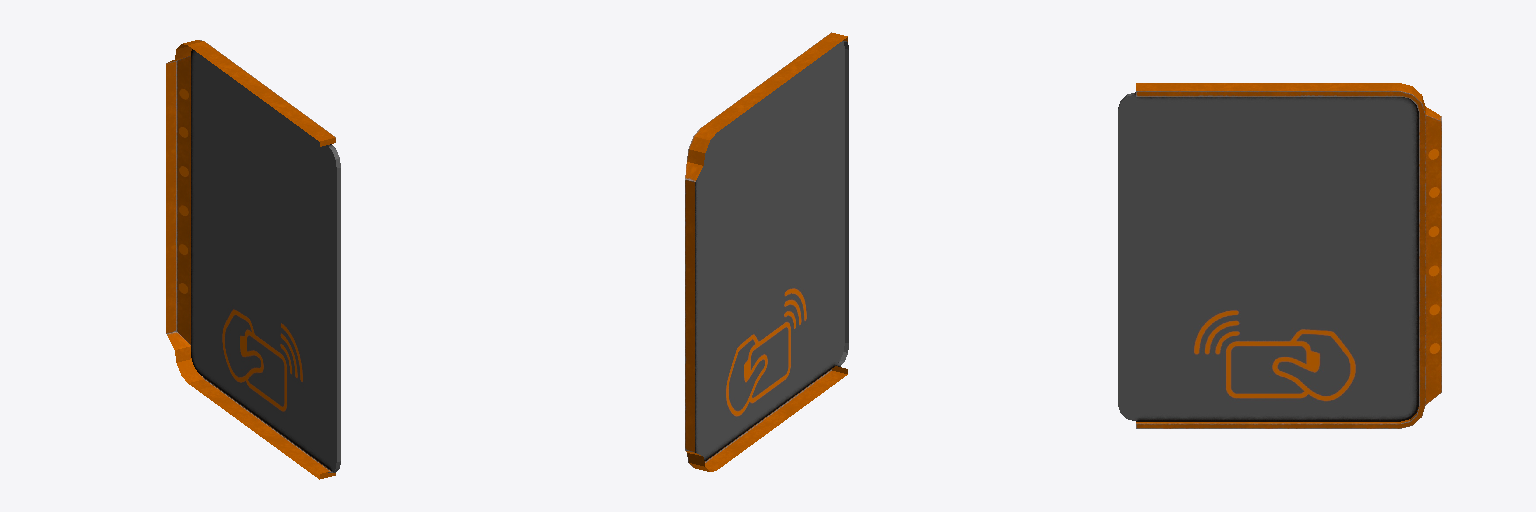
3 views of the same model, side by side, from view 1: azimuth 30°, elevation 25°; view 2: azimuth 150°, elevation 25°; view 3: azimuth 270°, elevation 25° (orthographic).
Parts seen in each view (by area): view 1: g CardMachine polySurface53 Cell_Room Cell; view 2: g CardMachine polySurface53 Cell_Room Cell; view 3: g CardMachine polySurface53 Cell_Room Cell.
Boxes of the visible parts, x1=… form: g CardMachine polySurface53 Cell_Room Cell: x1=166, y1=40, x2=340, y2=479; g CardMachine polySurface53 Cell_Room Cell: x1=685, y1=32, x2=848, y2=471; g CardMachine polySurface53 Cell_Room Cell: x1=1118, y1=83, x2=1441, y2=428.
Bounding box in the file's own units: 0.1051 × 2 × 1.74.
Materials: 1 (1 with a texture image).